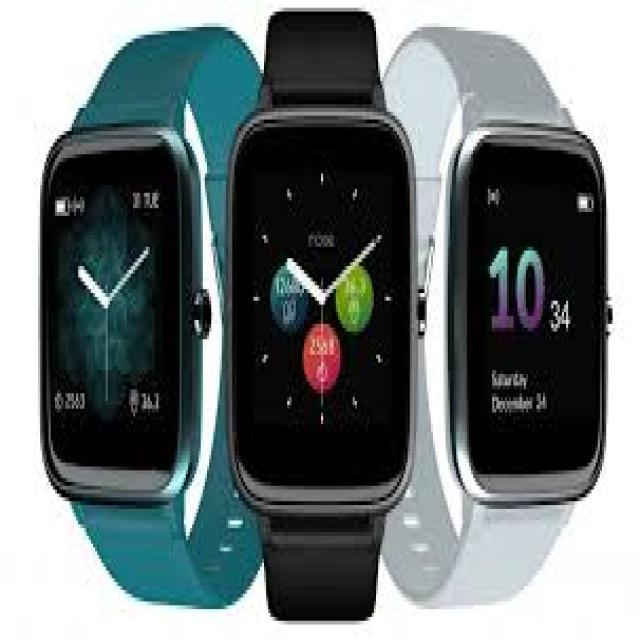objects: (38, 27, 263, 611), (384, 27, 607, 611), (228, 5, 417, 619), (38, 160, 40, 160)
